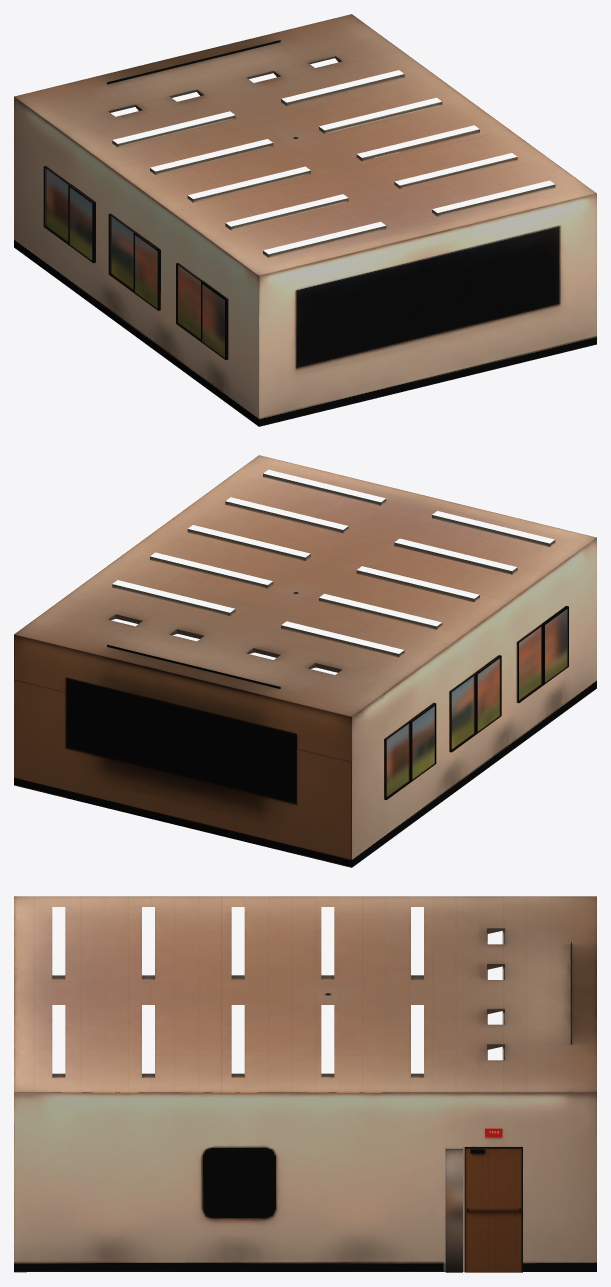
Rendered from FullClassRoom.glb.
3 renders of one model, top to bottom at view 1: azimuth 30°, elevation 25°; view 2: azimuth 150°, elevation 25°; view 3: azimuth 270°, elevation 25°, orthographic. The views are drawn at different scales.
Visible parts, largest first — view 1: ClassRoom; view 2: ClassRoom; view 3: ClassRoom.
Part boxes in pixels (x1,y1,x2,y2): ClassRoom: [14, 14, 596, 426]; ClassRoom: [14, 455, 596, 867]; ClassRoom: [14, 896, 596, 1272].
Bounding box in the file's own units: 7.22 × 3.12 × 8.97.
3 materials, 2 textured.
